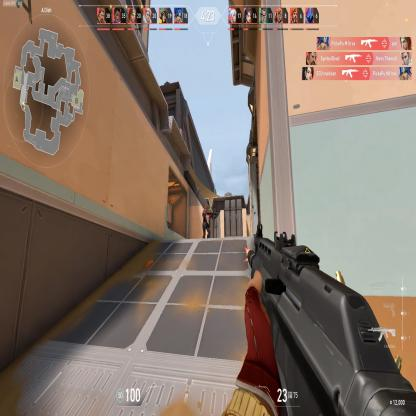enemy: (201, 206, 213, 238)
